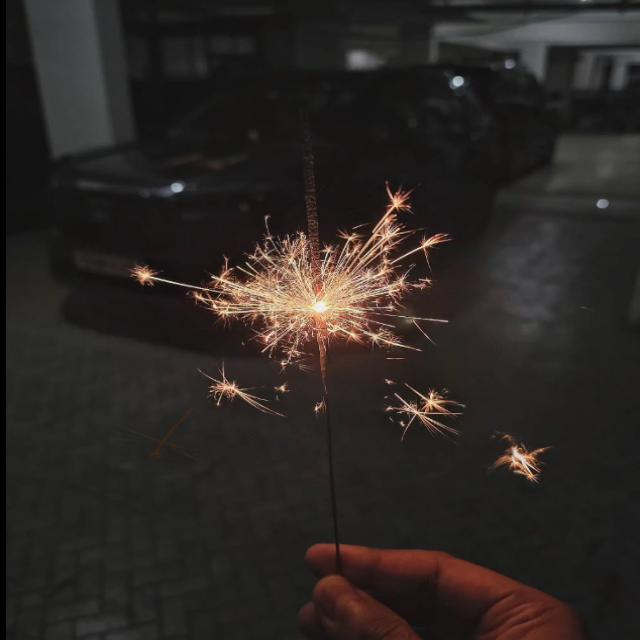fire: (128, 182, 450, 372)
